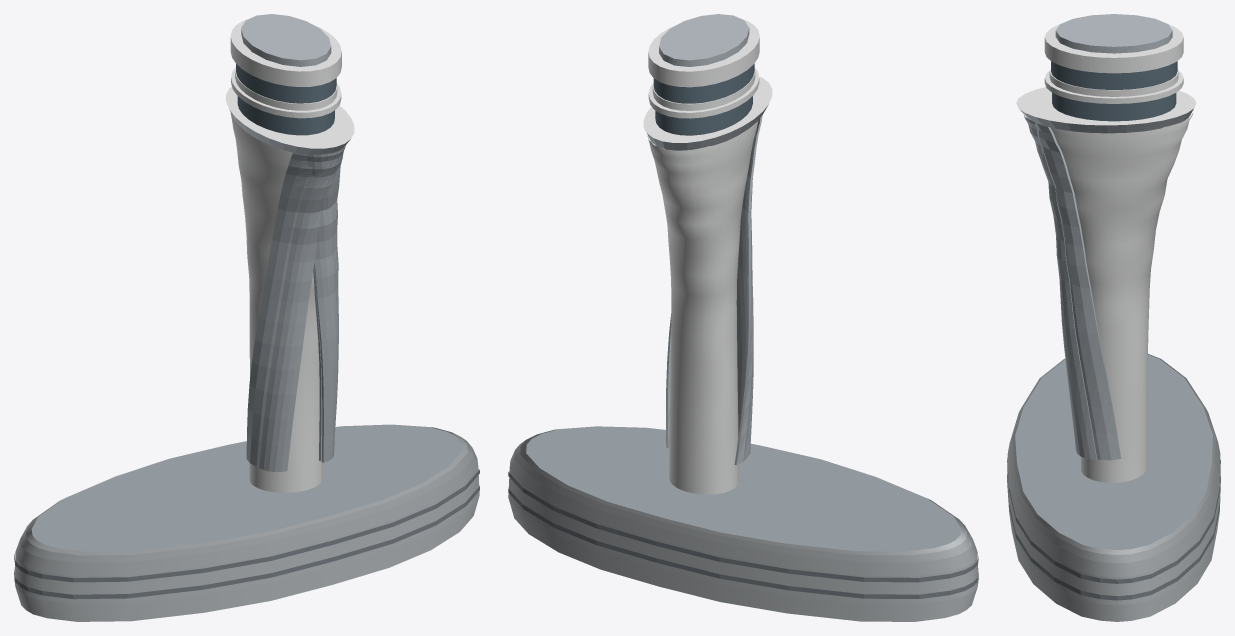
Rendered from istanbul-airport-control-tower.glb.
3 renders of one model, left to right at view 1: azimuth 30°, elevation 25°; view 2: azimuth 150°, elevation 25°; view 3: azimuth 270°, elevation 25°, orthographic.
Visible parts, largest first — view 1: Istanbul Airport control tower; view 2: Istanbul Airport control tower; view 3: Istanbul Airport control tower.
Boxes of the visible parts, x1,y1,x2,y2 form: Istanbul Airport control tower: [14, 14, 479, 621]; Istanbul Airport control tower: [508, 14, 978, 621]; Istanbul Airport control tower: [1007, 14, 1220, 621].
Bounding box in the file's own units: 85.42 × 91.2 × 35.12.
